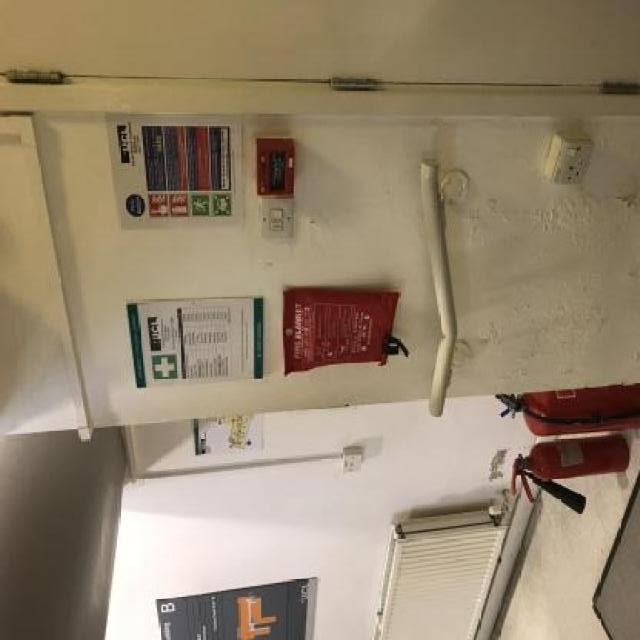fire extinguisher: (510, 435, 627, 513), (497, 383, 640, 435)
